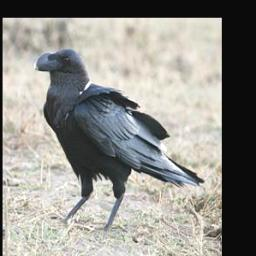Crow: (32, 48, 204, 232)
